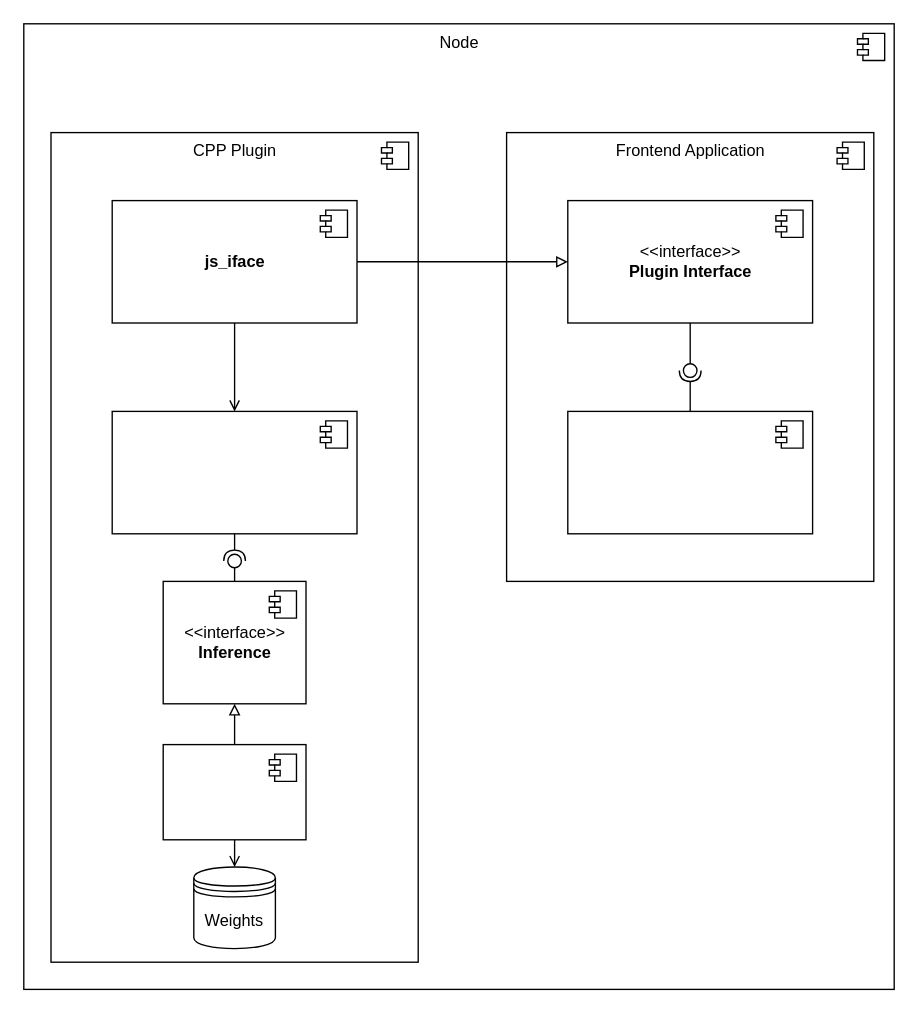
Image size: 918x1013. Some labels were removed from this diagram. The centre of each missing label's shape, as x and y in pixels:
Backend: the point at 234,472
Frontend: the point at 689,472
Model Runner: the point at 234,791
